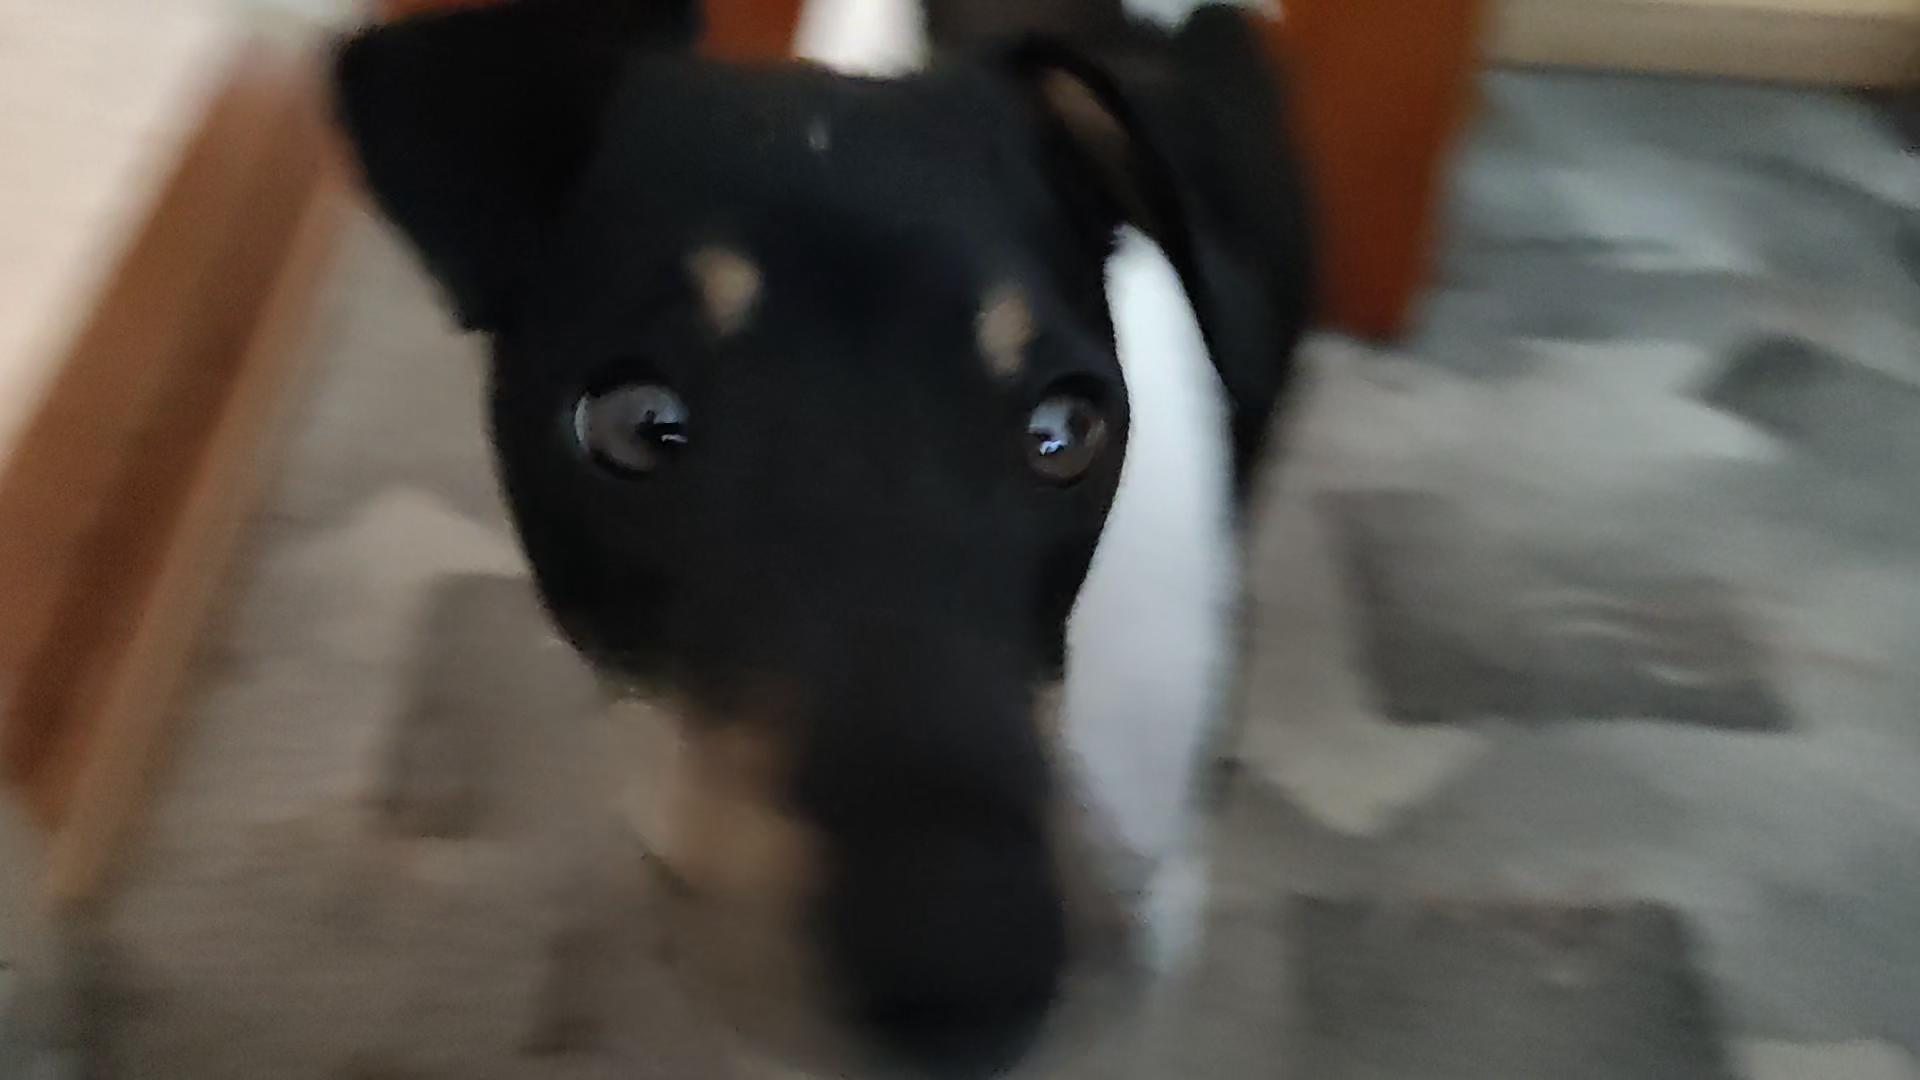Dog: (309, 0, 1353, 1080)
